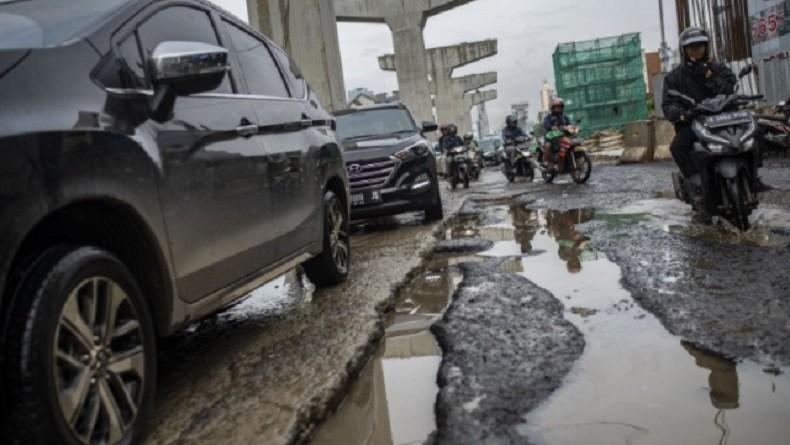Pothole: (200, 172, 790, 445)
